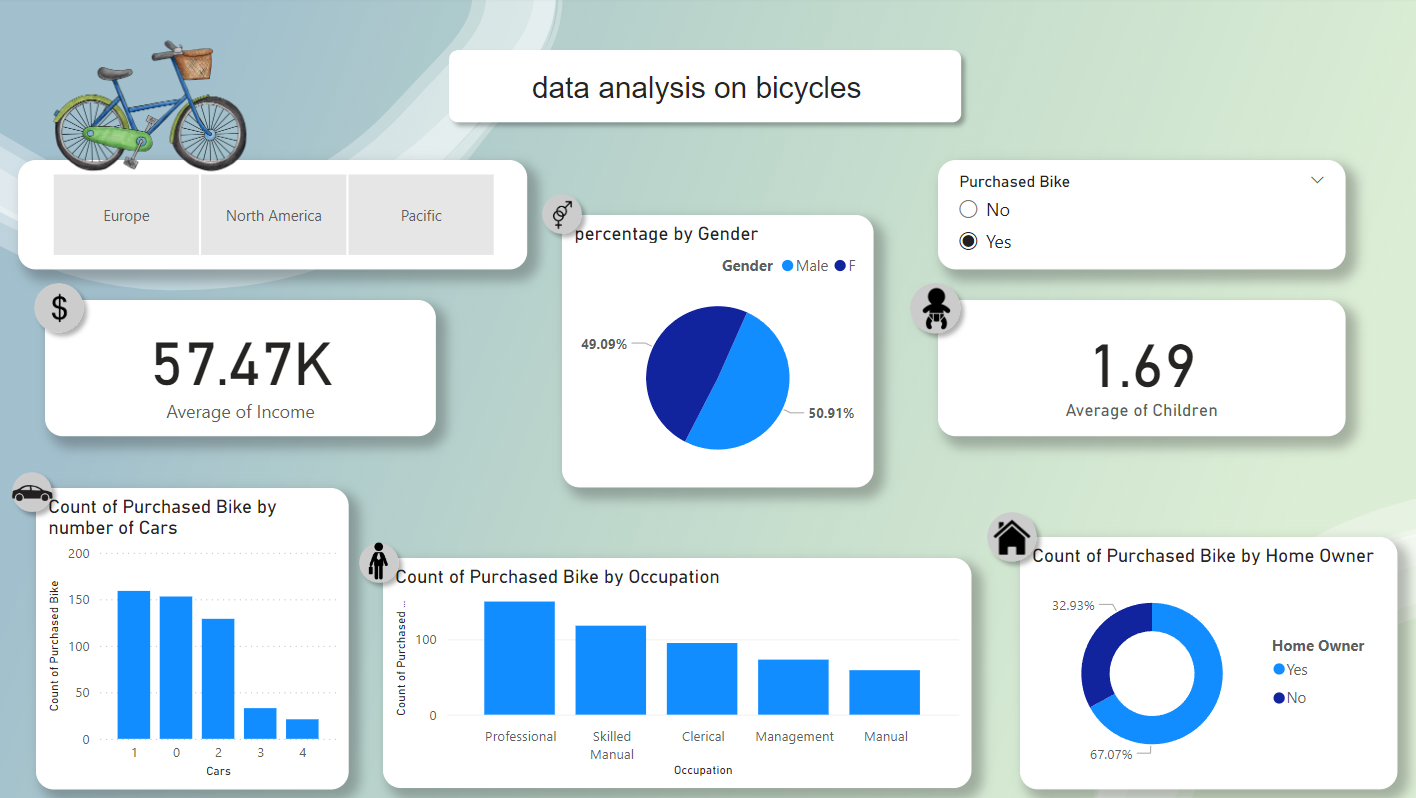

The page's visual inventory and layout, read from the dashboard file:
{"tool":"powerbi","page":{"name":"Page 1","canvas":[1280,720],"ordinal":0},"visuals":[{"type":"pieChart","title":"percentage by Gender","fields":{"Category":["bike_buyers.Gender"],"Y":["CountNonNull(bike_buyers.Purchased Bike)"]},"box":[512.6,195.5,279.1,244.1],"z":0},{"type":"columnChart","title":"Count of Purchased Bike by number of Cars","fields":{"Category":["bike_buyers.Cars"],"Y":["CountNonNull(bike_buyers.Purchased Bike)"]},"box":[41.3,439.5,280.2,269.6],"z":1000},{"type":"card","fields":{"Values":["Avg(bike_buyers.Income)"]},"box":[49.6,271.4,350.2,121.6],"z":2000},{"type":"donutChart","fields":{"Category":["bike_buyers.Home Owner"],"Y":["CountNonNull(bike_buyers.Purchased Bike)"]},"box":[922.1,483.4,337.5,225.7],"z":3000},{"type":"card","fields":{"Values":["Avg(bike_buyers.Children)"]},"box":[849.1,271.4,364.7,121.6],"z":4000},{"type":"clusteredColumnChart","fields":{"Category":["bike_buyers.Occupation"],"Y":["CountNonNull(bike_buyers.Purchased Bike)"]},"box":[352.1,502.8,526.8,206.3],"z":5000},{"type":"slicer","title":"dfa","fields":{"Values":["bike_buyers.Region"]},"box":[25.3,145.9,456.2,98.2],"z":6000},{"type":"slicer","fields":{"Values":["bike_buyers.Purchased Bike"]},"box":[849.1,145.9,364.7,98.2],"z":7000},{"type":"shape","box":[401.7,38.9,476.6,82.7],"z":8000},{"type":"textbox","box":[321,10.7,624.4,124.5],"z":9000},{"type":"image","box":[50,0,185.7,195.2],"z":10000},{"type":"shape","box":[883.7,451.9,62.4,62.4],"z":11000},{"type":"shape","box":[30.7,247.6,62.4,62.4],"z":12000},{"type":"image","box":[39,256.2,50.9,46.1],"z":13000},{"type":"shape","box":[10.6,416.4,53.7,53.7],"z":14000},{"type":"image","box":[13.1,421.3,48.8,48.8],"z":15000},{"type":"shape","box":[321.3,479.6,53.6,53.6],"z":16000},{"type":"image","box":[323.7,483.2,48.8,42.8],"z":17000},{"type":"image","box":[893.8,460.6,42.8,46.4],"z":18000},{"type":"shape","box":[815.2,247.5,63.1,63.1],"z":19000},{"type":"image","box":[812.8,249.9,69,60.7],"z":20000},{"type":"shape","box":[485.6,167.8,53.6,53.6],"z":21000},{"type":"image","box":[496.3,173.8,33.3,42.8],"z":22000}]}

Visuals, with their boxes in screenshot pixels (x1, y1, x2, y2), scaled from the page's 1280x720 canvas onto the 1416x798 screenshot:
"percentage by Gender" pieChart: 567,217,876,487
"Count of Purchased Bike by number of Cars" columnChart: 46,487,356,786
card - Avg(bike_buyers.Income): 55,301,442,436
donutChart - bike_buyers.Home Owner x CountNonNull(bike_buyers.Purchased Bike): 1020,536,1393,786
card - Avg(bike_buyers.Children): 939,301,1343,436
clusteredColumnChart - bike_buyers.Occupation x CountNonNull(bike_buyers.Purchased Bike): 390,557,972,786
"dfa" slicer: 28,162,533,271
slicer - bike_buyers.Purchased Bike: 939,162,1343,271
shape: 444,43,972,135
textbox: 355,12,1046,150
image: 55,0,261,216
shape: 978,501,1047,570
shape: 34,274,103,344
image: 43,284,99,335
shape: 12,462,71,521
image: 14,467,68,521
shape: 355,532,415,591
image: 358,536,412,583
image: 989,510,1036,562
shape: 902,274,972,344
image: 899,277,975,344
shape: 537,186,596,245
image: 549,193,586,240
